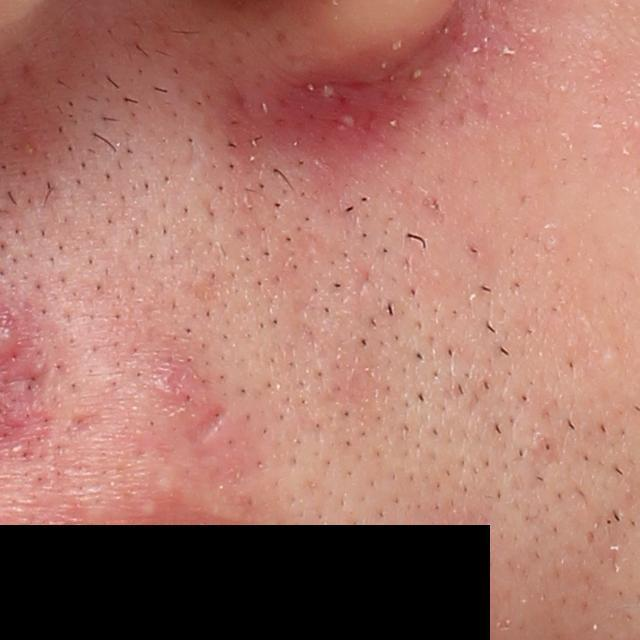atrophic_scar: (193, 404, 232, 446)
pustule: (314, 91, 373, 144)
